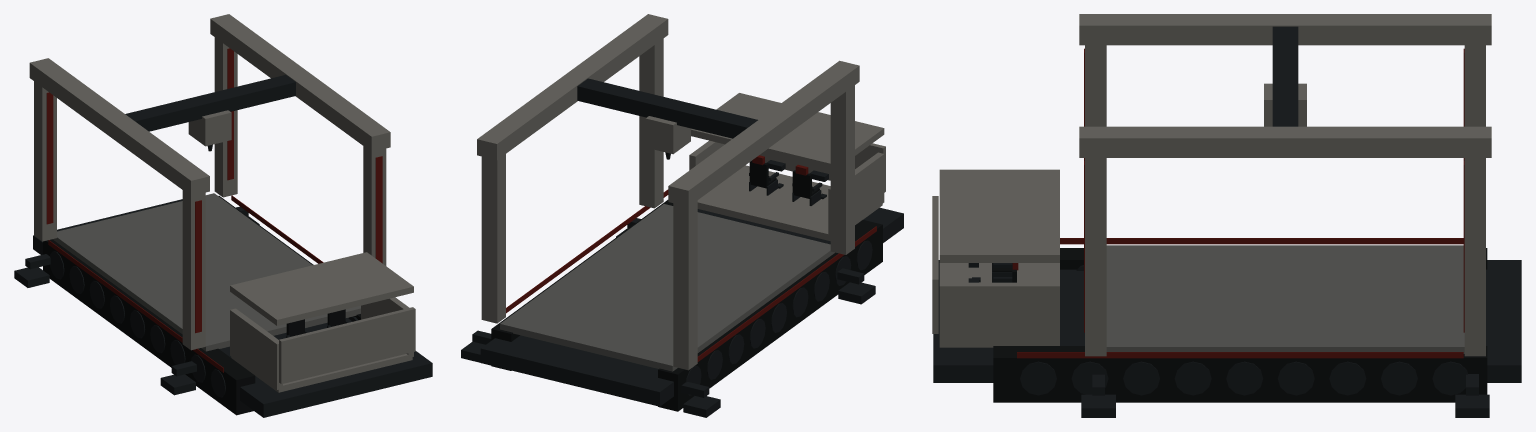
3 views of the same model, side by side, from view 1: azimuth 30°, elevation 25°; view 2: azimuth 150°, elevation 25°; view 3: azimuth 270°, elevation 25° (orthographic). The views are drawn at different scales.
Parts seen in each view (by area): view 1: mobile-fabricator-painted, printer-gantry-painted, printer-head-painted, stabilizer--1--5.7-painted, stabilizer--1-3-painted, crew-seating-batch-painted; view 2: mobile-fabricator-painted, printer-gantry-painted, crew-seating-batch-painted, printer-head-painted, stabilizer--1--5.7-painted, stabilizer--1-3-painted, stabilizer-1--5.7-painted; view 3: mobile-fabricator-painted, printer-gantry-painted, stabilizer-1--5.7-painted, stabilizer-1-3-painted, printer-head-painted, crew-seating-batch-painted.
Boxes of the visible parts, x1,y1,x2,y2 form: mobile-fabricator-painted: [29, 14, 432, 417]; printer-gantry-painted: [125, 75, 295, 131]; printer-head-painted: [188, 110, 231, 151]; stabilizer--1--5.7-painted: [14, 254, 50, 287]; stabilizer--1-3-painted: [160, 361, 196, 395]; crew-seating-batch-painted: [286, 309, 349, 337]; mobile-fabricator-painted: [477, 14, 903, 411]; printer-gantry-painted: [577, 78, 757, 138]; crew-seating-batch-painted: [749, 155, 828, 205]; printer-head-painted: [645, 116, 690, 159]; stabilizer--1--5.7-painted: [681, 382, 720, 417]; stabilizer--1-3-painted: [837, 268, 875, 304]; stabilizer-1--5.7-painted: [461, 330, 491, 362]; mobile-fabricator-painted: [932, 14, 1521, 402]; printer-gantry-painted: [1272, 26, 1298, 126]; stabilizer-1--5.7-painted: [1455, 374, 1489, 417]; stabilizer-1-3-painted: [1081, 374, 1115, 417]; printer-head-painted: [1264, 83, 1306, 126]; crew-seating-batch-painted: [968, 263, 1018, 282].
Bounding box in the file's own units: 42.68 × 37.45 × 73.68.
